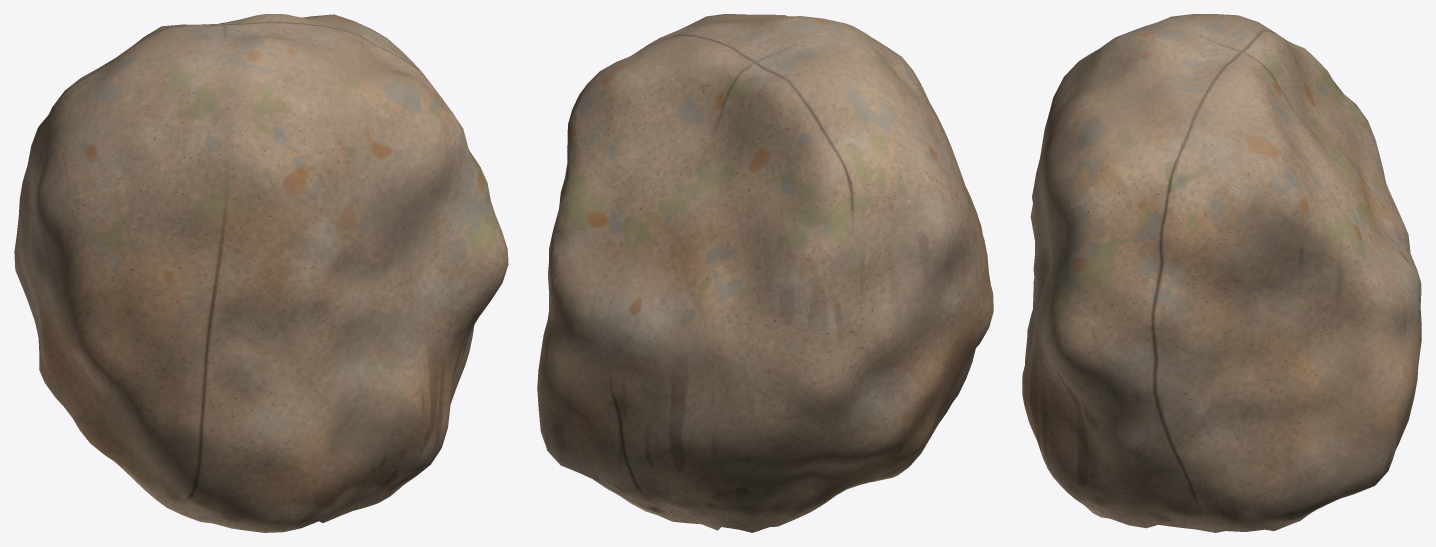
The model's file is rock_b.glb.
3 views of the same model, side by side, from view 1: azimuth 30°, elevation 25°; view 2: azimuth 150°, elevation 25°; view 3: azimuth 270°, elevation 25° (orthographic). The views are drawn at different scales.
Visible parts, largest first — view 1: rock_b; view 2: rock_b; view 3: rock_b.
Boxes of the visible parts, left/top/right/bottom form: rock_b: left=14, top=14, right=508, bottom=532; rock_b: left=537, top=14, right=993, bottom=532; rock_b: left=1022, top=14, right=1421, bottom=532.
Size of the model in its own units: 1.33 by 1.43 by 1.19.
Materials: 1 (1 with a texture image).
